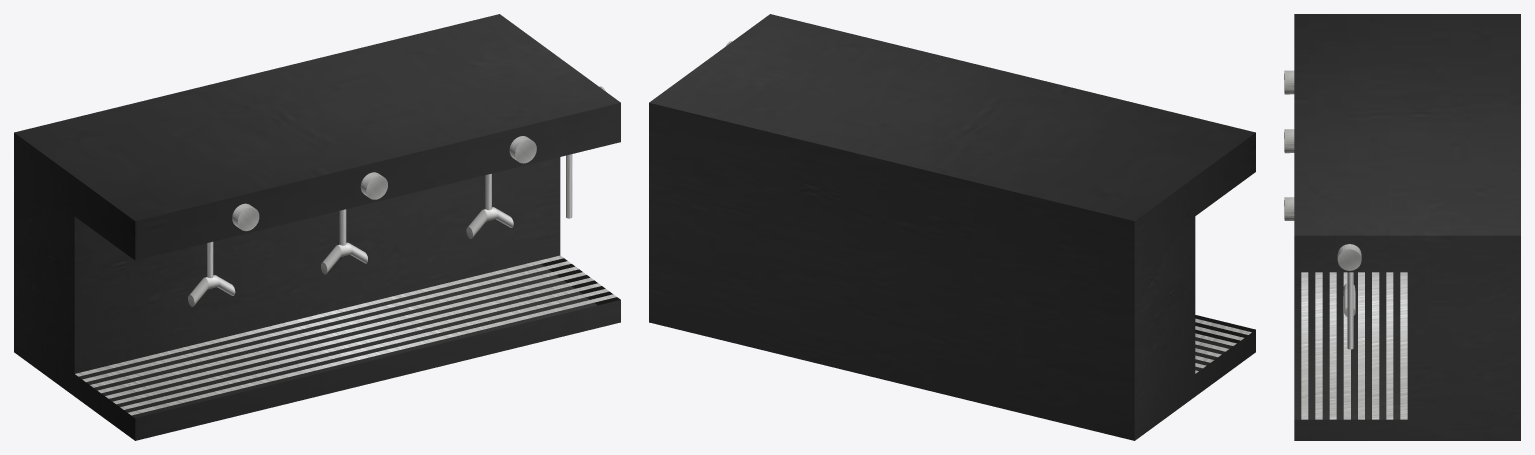
File: CoffeeMachine.obj
The picture shows the model from 3 angles, left to right: view 1: azimuth 30°, elevation 25°; view 2: azimuth 150°, elevation 25°; view 3: azimuth 270°, elevation 25°; orthographic projection. The views are drawn at different scales.
Visible parts, largest first — view 1: CoffeeMachine; view 2: CoffeeMachine; view 3: CoffeeMachine.
Boxes of the visible parts, left/top/right/bottom form: CoffeeMachine: left=14, top=14, right=620, bottom=440; CoffeeMachine: left=649, top=14, right=1255, bottom=440; CoffeeMachine: left=1284, top=14, right=1520, bottom=440.
Size of the model in its own units: 4.74 by 2 by 2.09.
